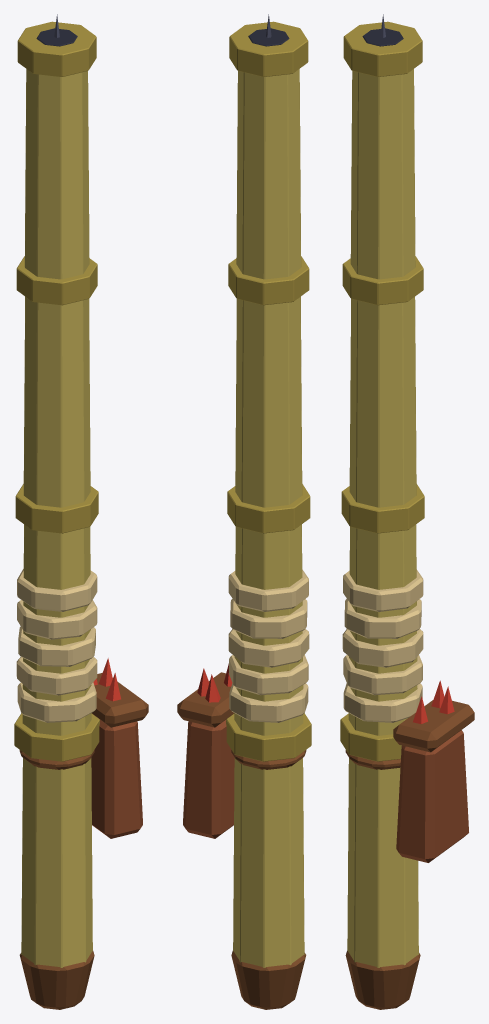
The model's file is myw_blowpipe.glb.
The picture shows the model from 3 angles, left to right: view 1: azimuth 30°, elevation 25°; view 2: azimuth 150°, elevation 25°; view 3: azimuth 330°, elevation 25°; orthographic projection.
Parts seen in each view (by area): view 1: Pipe, Wrap, DartPouch, Mouthpiece, PouchDarts; view 2: Pipe, Wrap, DartPouch, Mouthpiece, PouchDarts; view 3: Pipe, DartPouch, Wrap, Mouthpiece, PouchDarts.
Part boxes in pixels (bbox=[...]): Pipe: bbox=[14, 21, 99, 967]; Wrap: bbox=[16, 569, 97, 722]; DartPouch: bbox=[19, 673, 148, 838]; Mouthpiece: bbox=[19, 951, 94, 1009]; PouchDarts: bbox=[93, 658, 120, 701]; Pipe: bbox=[226, 21, 311, 967]; Wrap: bbox=[228, 569, 309, 722]; DartPouch: bbox=[177, 672, 306, 838]; Mouthpiece: bbox=[231, 951, 306, 1009]; PouchDarts: bbox=[197, 663, 232, 702]; Pipe: bbox=[340, 21, 424, 967]; DartPouch: bbox=[345, 700, 474, 862]; Wrap: bbox=[342, 569, 423, 722]; Mouthpiece: bbox=[345, 951, 420, 1009]; PouchDarts: bbox=[413, 680, 454, 723].
Bounding box in the file's own units: 0.4443 × 3.9 × 0.32.
